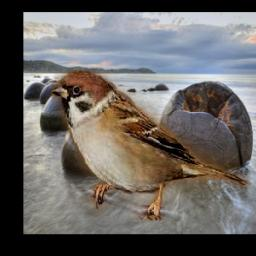Sparrow: (51, 71, 246, 221)
